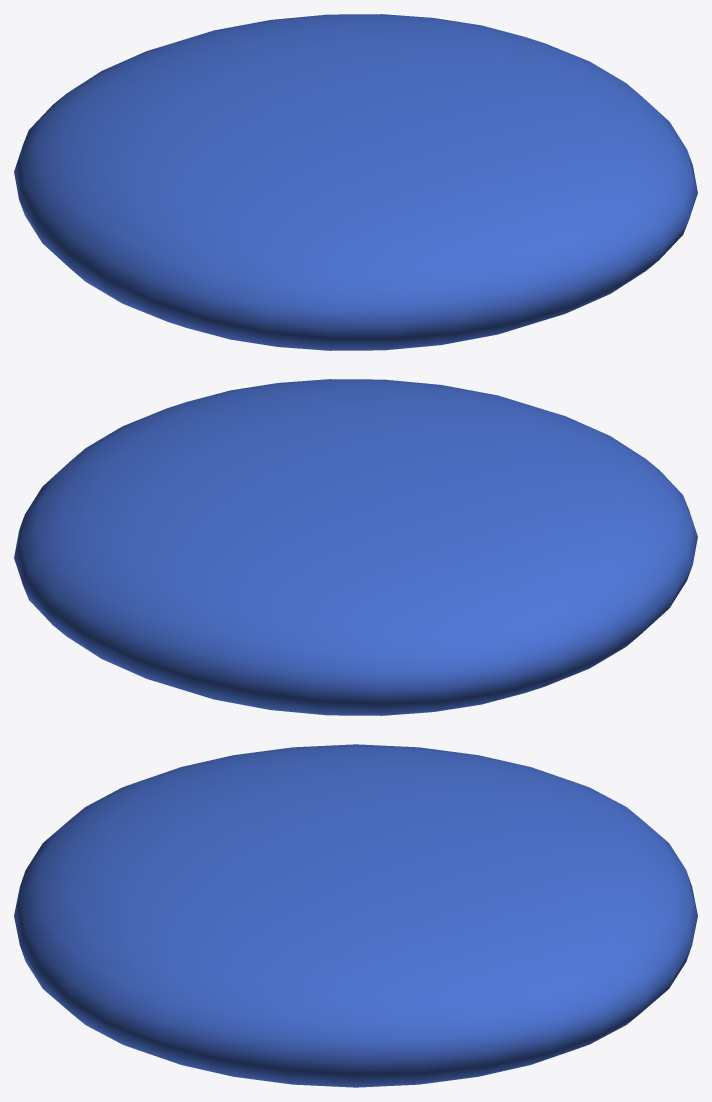
File: Button.fbx
3 views of the same model, one above another, from view 1: azimuth 30°, elevation 25°; view 2: azimuth 150°, elevation 25°; view 3: azimuth 270°, elevation 25° (orthographic). The views are drawn at different scales.
Parts seen in each view (by area): view 1: Cube; view 2: Cube; view 3: Cube.
Part boxes in pixels (box(x1,y1,x2,y2)): Cube: box(14, 14, 697, 350); Cube: box(14, 379, 697, 715); Cube: box(14, 744, 697, 1087).
Size of the model in its own units: 170 by 46.96 by 170.
